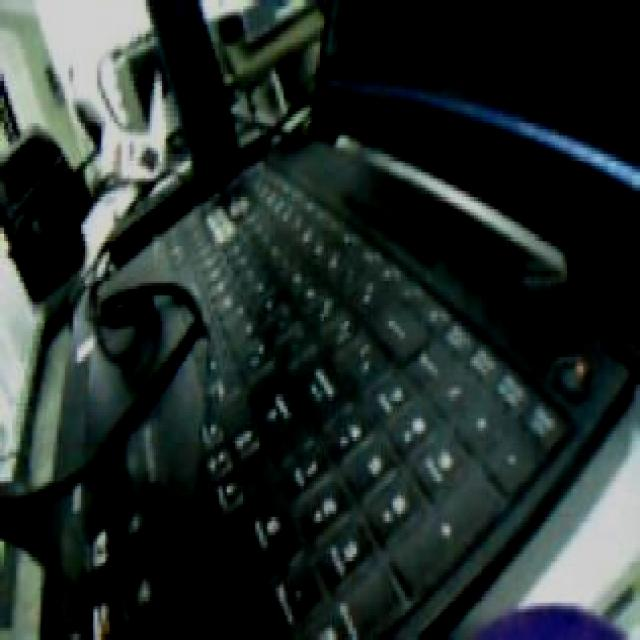BallPurple: (464, 599, 634, 640)
